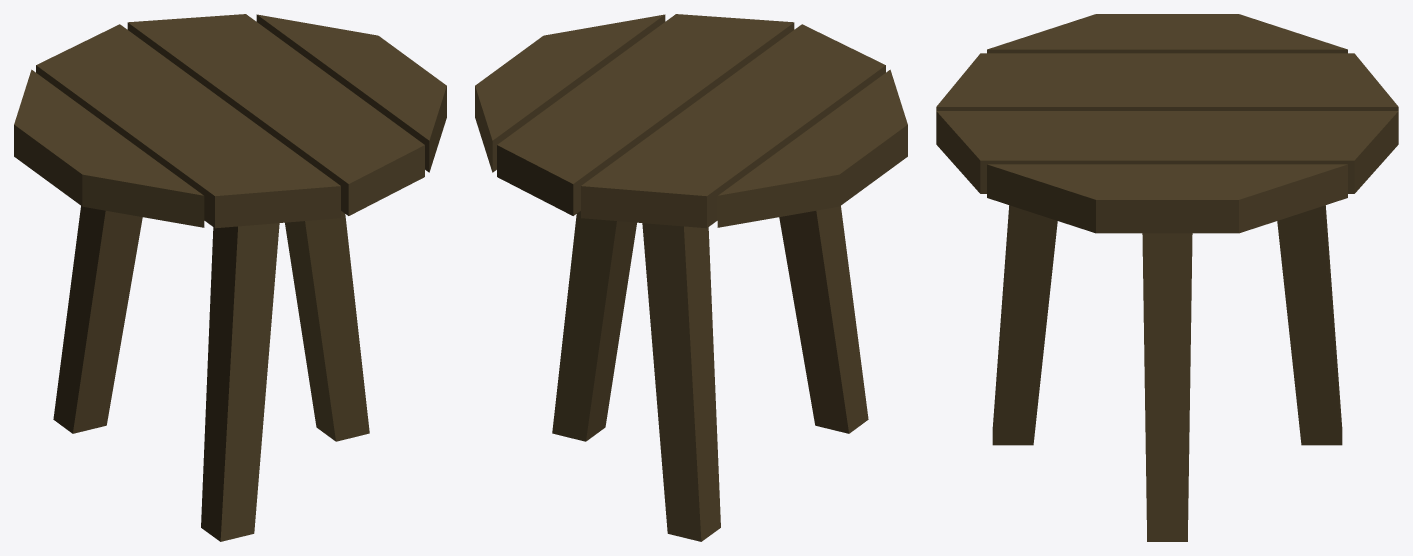
File: fantasy_stool.fbx
3 views of the same model, side by side, from view 1: azimuth 30°, elevation 25°; view 2: azimuth 150°, elevation 25°; view 3: azimuth 270°, elevation 25° (orthographic). The views are drawn at different scales.
Visible parts, largest first — view 1: Cylinder.001; view 2: Cylinder.001; view 3: Cylinder.001.
Part boxes in pixels (left/top/right/bottom): Cylinder.001: left=14, top=14, right=446, bottom=541; Cylinder.001: left=475, top=14, right=907, bottom=541; Cylinder.001: left=936, top=14, right=1398, bottom=541.
Size of the model in its own units: 47.55 by 44 by 50.
